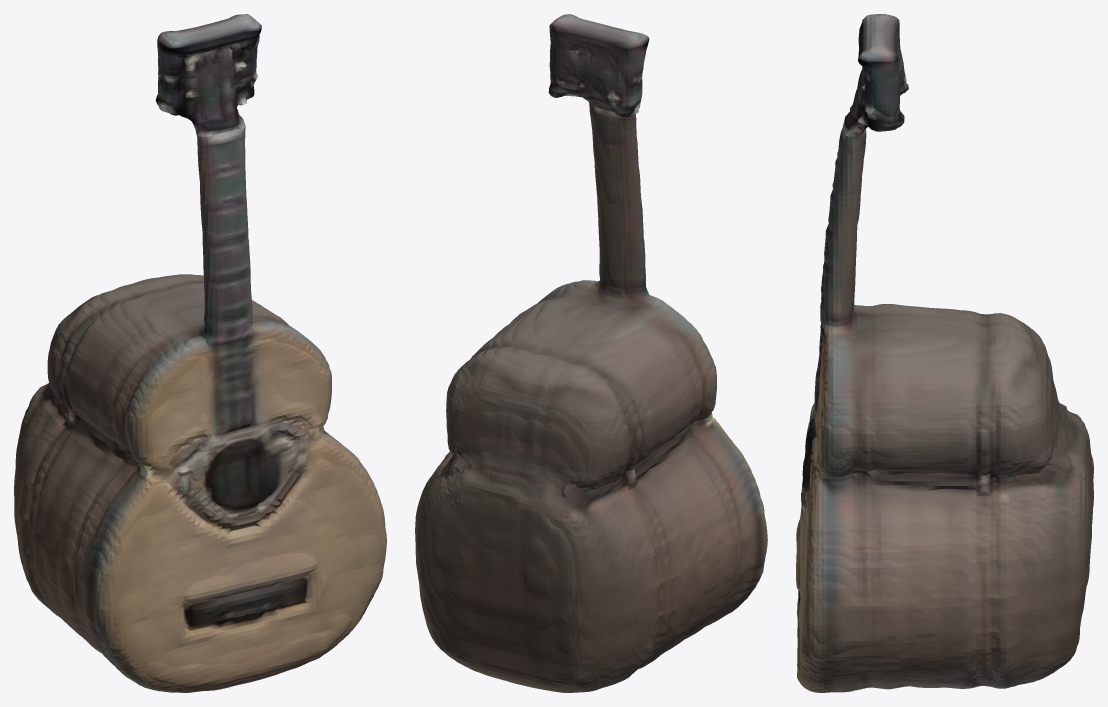
The model's file is guitar.glb.
3 views of the same model, side by side, from view 1: azimuth 30°, elevation 25°; view 2: azimuth 150°, elevation 25°; view 3: azimuth 270°, elevation 25° (orthographic). The views are drawn at different scales.
Visible parts, largest first — view 1: geometry_0; view 2: geometry_0; view 3: geometry_0.
Part boxes in pixels (x1,y1,x2,y2): geometry_0: [14, 14, 386, 692]; geometry_0: [415, 14, 767, 692]; geometry_0: [796, 14, 1093, 692].
Bounding box in the file's own units: 0.4769 × 1 × 0.427.
